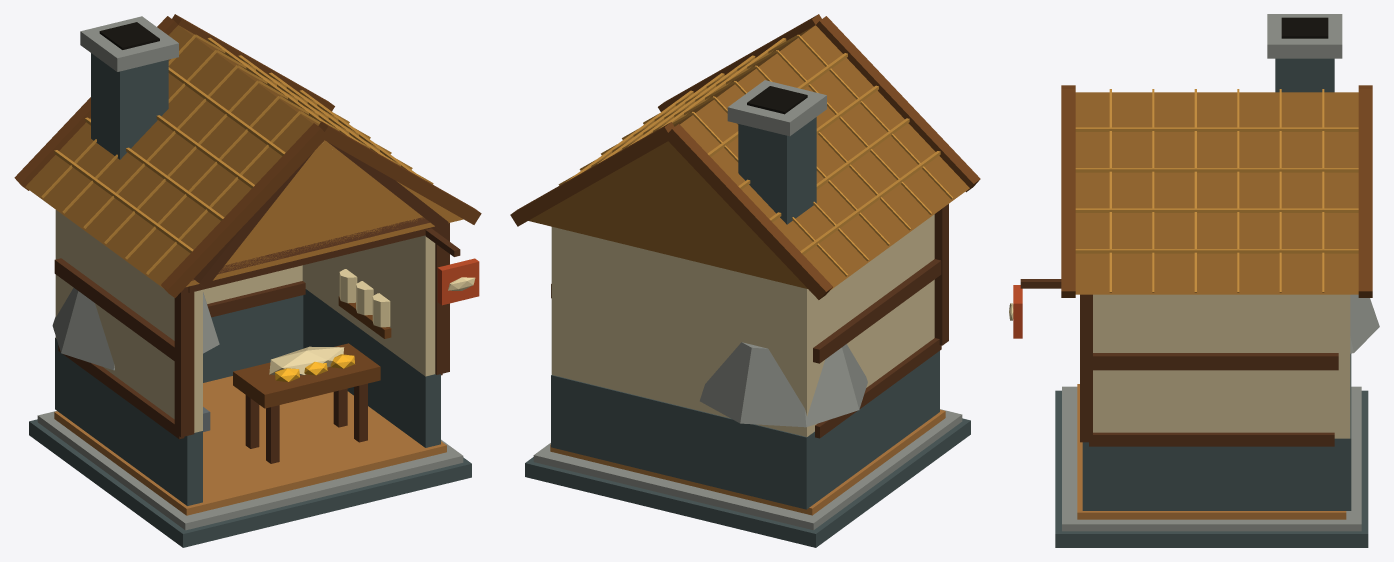
Rendered from bakery.glb.
3 renders of one model, left to right at view 1: azimuth 30°, elevation 25°; view 2: azimuth 150°, elevation 25°; view 3: azimuth 270°, elevation 25°, orthographic.
Visible parts, largest first — view 1: Roof, Side stone wall.001, Rear plaster wall, Wall corner timber.001, Bakery floor, Baker prep table, Foundation cap, Tile seam.006, Dough on prep table, Bakery sign, Flue opening, Fresh bread.001; view 2: Rear plaster wall, Side stone wall.001, Roof, Foundation cap, Baker prep table, Tile seam.006, Wall corner timber.001, Bakery floor, Flue opening; view 3: Roof, Rear plaster wall, Side stone wall.001, Foundation cap, Wall corner timber.001, Tile seam.006, Baker prep table, Bakery floor, Flue opening, Bakery sign.
Part boxes in pixels (x1=…): Roof: x1=25, y1=25, x2=463, y2=288; Side stone wall.001: x1=29, y1=53, x2=471, y2=547; Rear plaster wall: x1=55, y1=210, x2=435, y2=432; Wall corner timber.001: x1=54, y1=142, x2=460, y2=463; Bakery floor: x1=54, y1=376, x2=446, y2=515; Baker prep table: x1=14, y1=14, x2=481, y2=408; Foundation cap: x1=37, y1=16, x2=463, y2=530; Tile seam.006: x1=41, y1=34, x2=433, y2=274; Dough on prep table: x1=269, y1=269, x2=475, y2=375; Bakery sign: x1=437, y1=258, x2=479, y2=305; Flue opening: x1=99, y1=22, x2=159, y2=49; Fresh bread.001: x1=275, y1=354, x2=354, y2=382; Rear plaster wall: x1=551, y1=214, x2=934, y2=436; Side stone wall.001: x1=525, y1=117, x2=970, y2=547; Roof: x1=528, y1=25, x2=969, y2=290; Foundation cap: x1=533, y1=80, x2=962, y2=530; Baker prep table: x1=510, y1=14, x2=980, y2=299; Tile seam.006: x1=558, y1=34, x2=953, y2=276; Wall corner timber.001: x1=551, y1=204, x2=948, y2=438; Bakery floor: x1=550, y1=409, x2=945, y2=515; Flue opening: x1=747, y1=86, x2=807, y2=114; Roof: x1=1075, y1=92, x2=1358, y2=294; Rear plaster wall: x1=1093, y1=294, x2=1350, y2=438; Side stone wall.001: x1=1055, y1=58, x2=1368, y2=547; Foundation cap: x1=1062, y1=14, x2=1379, y2=531; Wall corner timber.001: x1=1020, y1=279, x2=1338, y2=446; Tile seam.006: x1=1075, y1=89, x2=1358, y2=292; Baker prep table: x1=1061, y1=85, x2=1372, y2=297; Bakery floor: x1=1077, y1=384, x2=1346, y2=519; Flue opening: x1=1281, y1=17, x2=1328, y2=38; Bakery sign: x1=1013, y1=285, x2=1022, y2=338.
Size of the model in its own units: 2.85 by 3.52 by 2.87.
